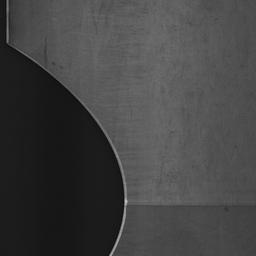Crescent gap: (6, 43, 124, 256)
